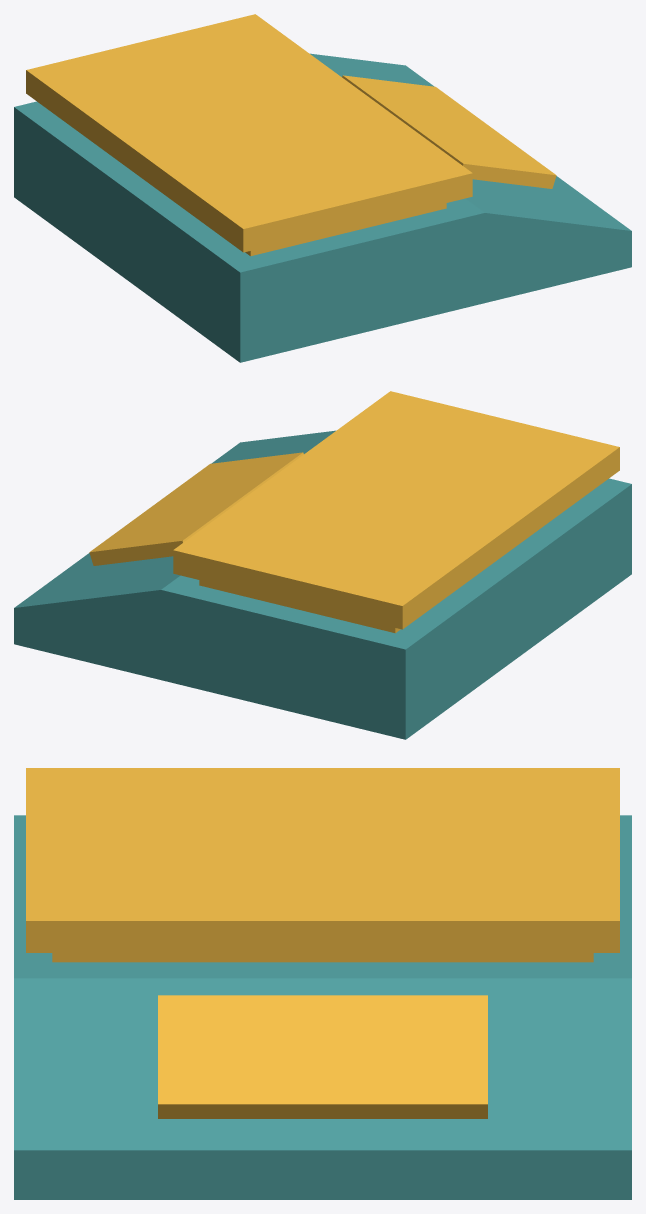
File: Masa.fbx
The picture shows the model from 3 angles, top to bottom: view 1: azimuth 30°, elevation 25°; view 2: azimuth 150°, elevation 25°; view 3: azimuth 270°, elevation 25°; orthographic projection. The views are drawn at different scales.
Parts seen in each view (by area): view 1: masa; view 2: masa; view 3: masa.
Boxes of the visible parts, left/top/right/bottom form: masa: left=14, top=14, right=631, bottom=362; masa: left=14, top=391, right=631, bottom=739; masa: left=14, top=768, right=631, bottom=1199.
Size of the model in its own units: 200 by 62.73 by 200.
